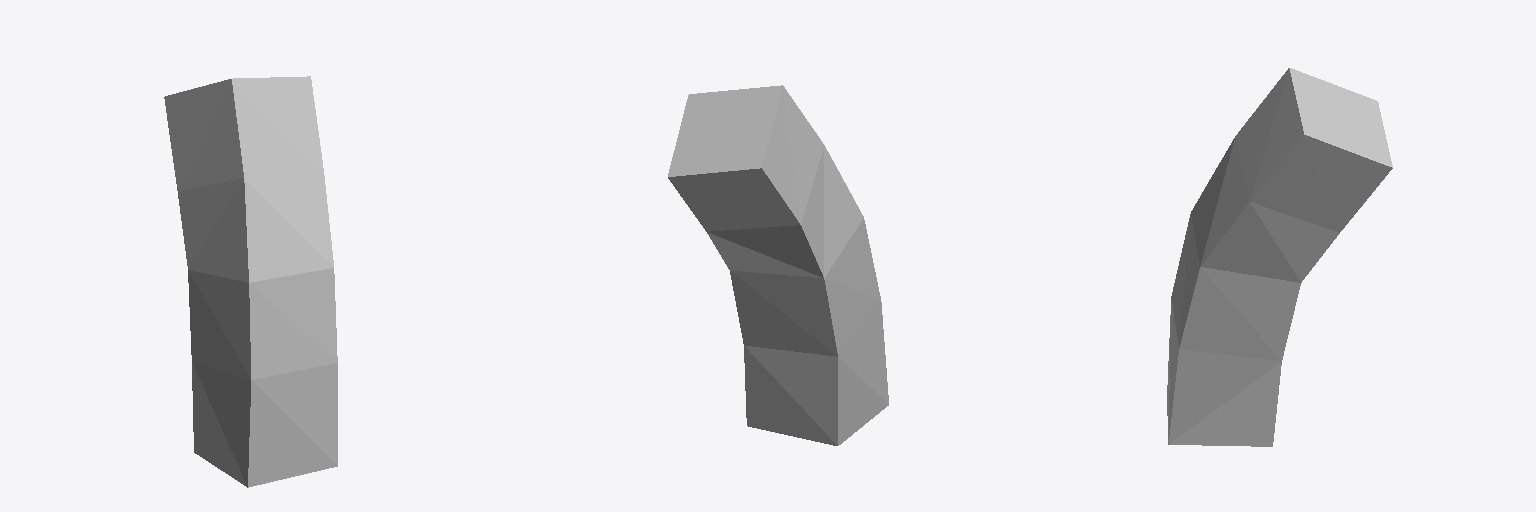
Rendered from wiggle_000032.obj.
3 views of the same model, side by side, from view 1: azimuth 30°, elevation 25°; view 2: azimuth 150°, elevation 25°; view 3: azimuth 270°, elevation 25° (orthographic).
Visible parts, largest first — view 1: Cube; view 2: Cube; view 3: Cube.
Part boxes in pixels (bbox=[...]): Cube: bbox=[164, 76, 337, 487]; Cube: bbox=[668, 85, 888, 445]; Cube: bbox=[1167, 68, 1392, 446].
Bounding box in the file's own units: 2.95 × 7.51 × 4.31.